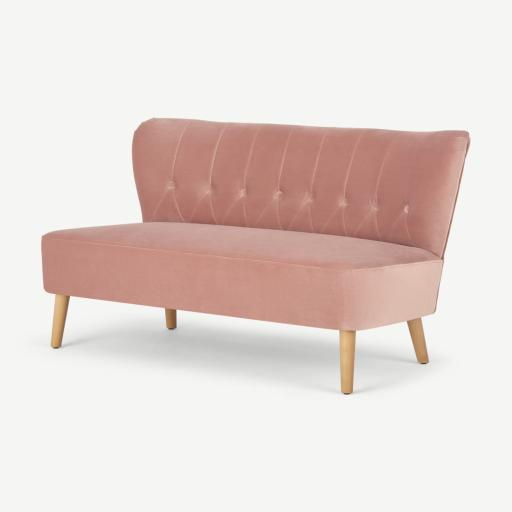back_cushion: (133, 119, 467, 256)
legs: (51, 295, 69, 348), (340, 331, 355, 394), (408, 318, 428, 363), (166, 309, 176, 329)
one-seater: (42, 118, 469, 394)
seat_cushion: (42, 223, 442, 331)
